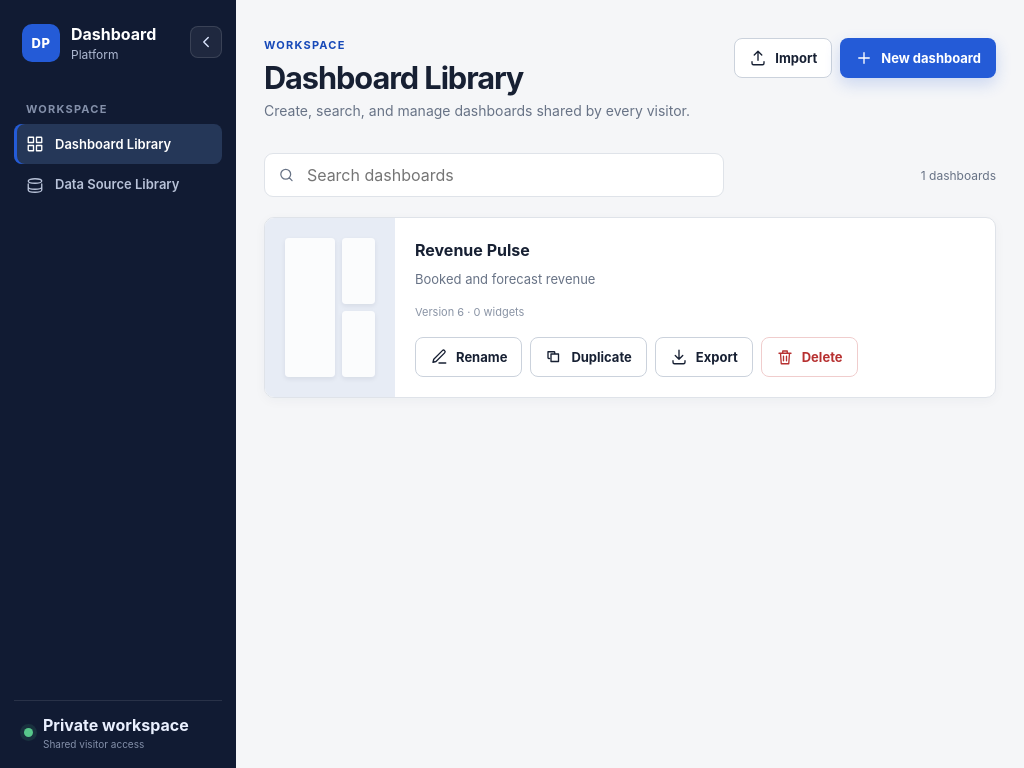
Test: DashboardLibrary › duplicates a dashboard and renders the returned copy
The image size is (1024, 768).
Check: the heading "Revenue Pulse" is shown, box [415,240,530,260]
Click the button "Duplicate".
click(589, 357)  # box [530,337,647,377]
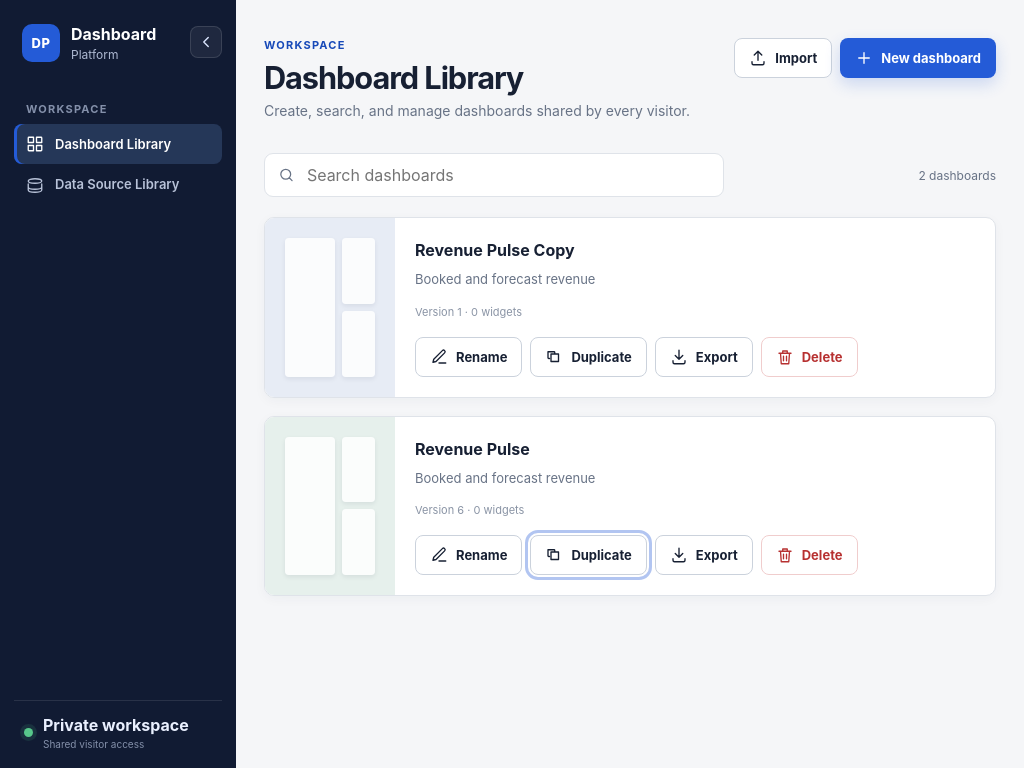
Check: the heading "Revenue Pulse Copy" is shown, box [415,240,575,260]
